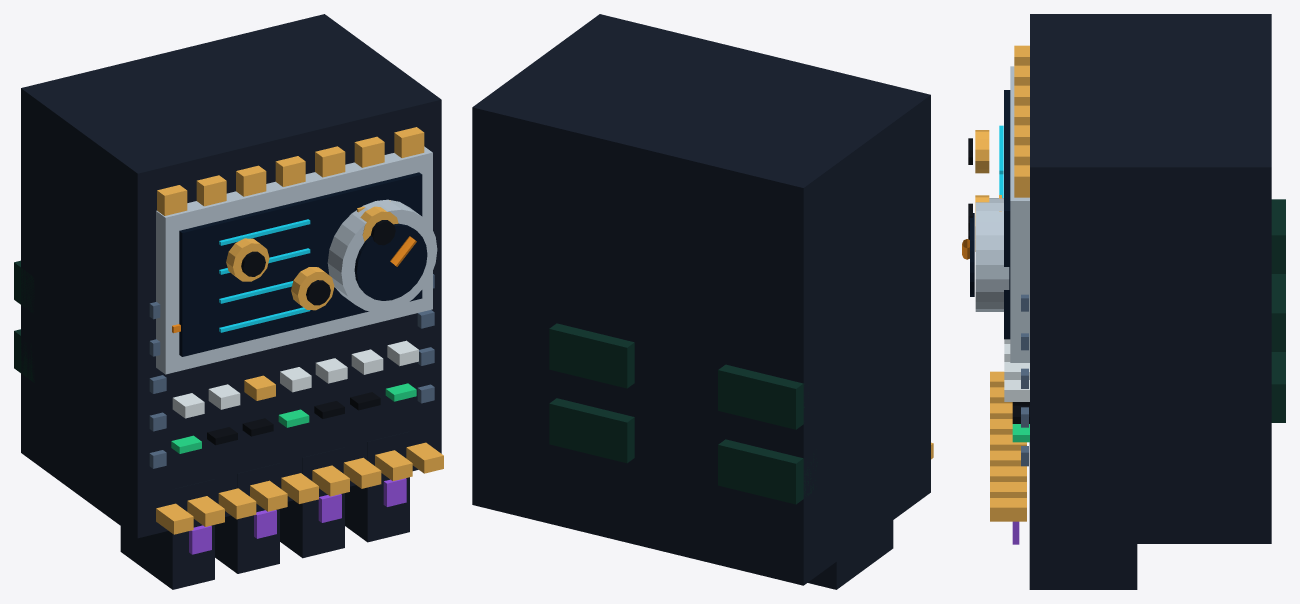
The model's file is 63_L91_TimingResidualAnalyzer.fbx.
3 renders of one model, left to right at view 1: azimuth 30°, elevation 25°; view 2: azimuth 150°, elevation 25°; view 3: azimuth 270°, elevation 25°, orthographic. The views are drawn at different scales.
Visible parts, largest first — view 1: L91_TimingResidualAnalyzer, L91_TimingResidualAnalyzer_Part_0013, L91_TimingResidualAnalyzer_Part_0014, L91_TimingResidualAnalyzer_Part_0016, L91_TimingResidualAnalyzer_Part_0018; view 2: L91_TimingResidualAnalyzer; view 3: L91_TimingResidualAnalyzer, L91_TimingResidualAnalyzer_Part_0014.
Part boxes in pixels (x1,y1,x2,y2): L91_TimingResidualAnalyzer: [14, 14, 443, 589]; L91_TimingResidualAnalyzer_Part_0013: [189, 478, 406, 554]; L91_TimingResidualAnalyzer_Part_0014: [226, 238, 269, 281]; L91_TimingResidualAnalyzer_Part_0016: [291, 267, 334, 310]; L91_TimingResidualAnalyzer_Part_0018: [360, 206, 398, 241]; L91_TimingResidualAnalyzer: [472, 14, 933, 589]; L91_TimingResidualAnalyzer: [970, 14, 1285, 589]; L91_TimingResidualAnalyzer_Part_0014: [975, 130, 989, 173].
Bounding box in the file's own units: 108 × 144 × 96.09.
